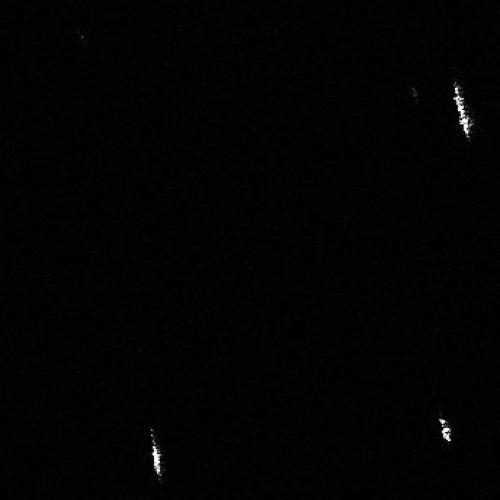ship: (452, 83, 477, 139), (148, 433, 164, 480), (436, 416, 454, 444)
